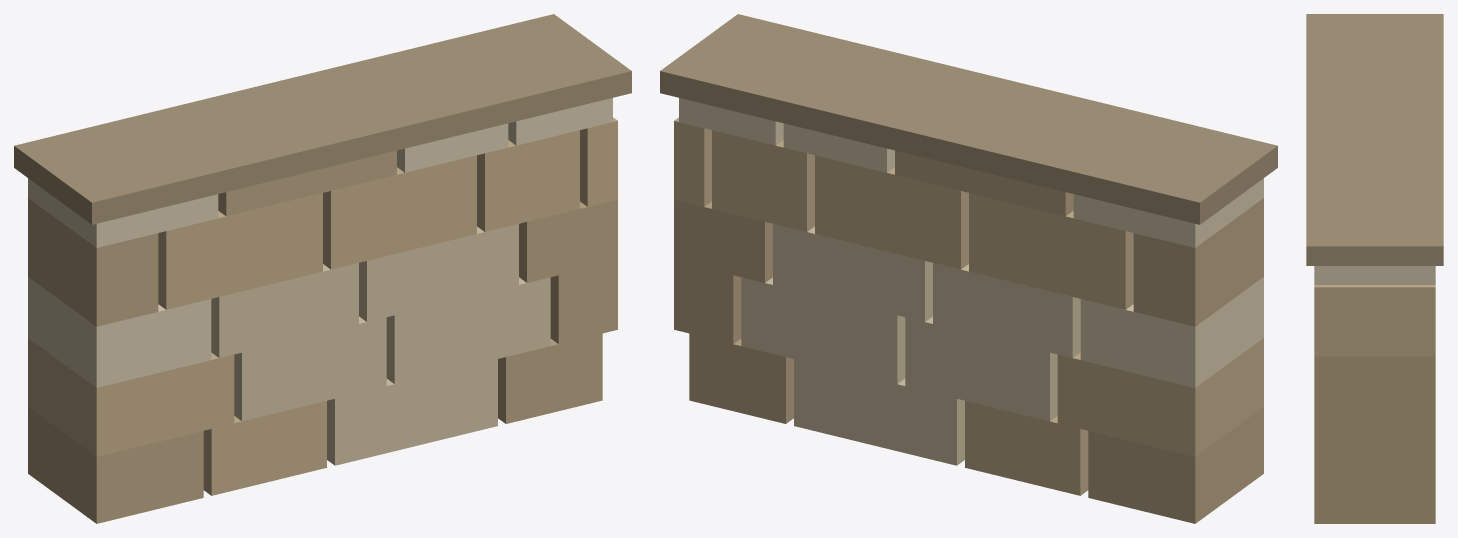
The model's file is bahce-tas-duvar-2m.glb.
3 views of the same model, side by side, from view 1: azimuth 30°, elevation 25°; view 2: azimuth 150°, elevation 25°; view 3: azimuth 270°, elevation 25° (orthographic). The views are drawn at different scales.
Parts seen in each view (by area): view 1: tas2, tas_koyu, tas1, tas3, tas4; view 2: tas2, tas_koyu, tas1, tas3, tas4; view 3: tas_koyu, tas3, tas2, tas4.
Boxes of the visible parts, x1,y1,x2,y2 form: tas2: [28, 117, 617, 495]; tas_koyu: [14, 14, 631, 224]; tas1: [211, 224, 550, 465]; tas3: [28, 150, 617, 523]; tas4: [28, 98, 612, 387]; tas2: [674, 117, 1263, 495]; tas_koyu: [660, 14, 1277, 224]; tas1: [741, 224, 1080, 465]; tas3: [674, 150, 1263, 523]; tas4: [679, 98, 1263, 387]; tas_koyu: [1306, 14, 1443, 265]; tas3: [1314, 356, 1435, 523]; tas2: [1314, 285, 1435, 356]; tas4: [1314, 266, 1435, 284].
Size of the model in its own units: 2.04 by 1.18 by 0.5101.
